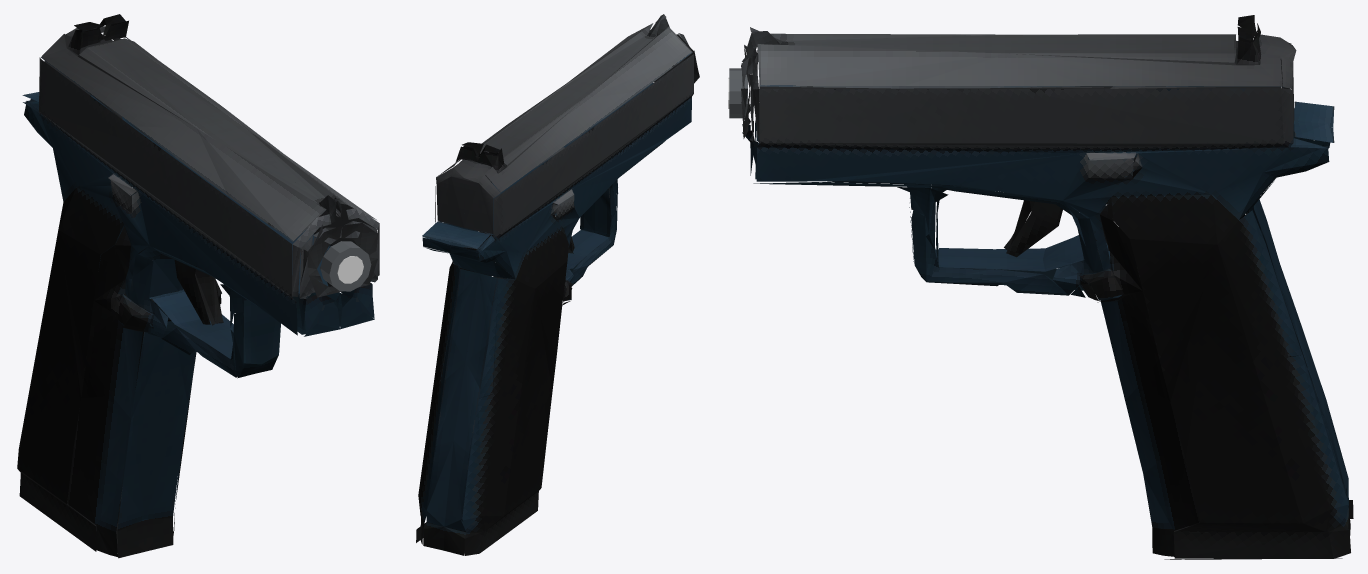
File: pistol.glb
3 views of the same model, side by side, from view 1: azimuth 30°, elevation 25°; view 2: azimuth 150°, elevation 25°; view 3: azimuth 270°, elevation 25° (orthographic). The views are drawn at different scales.
Visible parts, largest first — view 1: geometry_0, Unsuppressed muzzle, Dark barrel bore; view 2: geometry_0; view 3: geometry_0, Unsuppressed muzzle.
Boxes of the visible parts, x1=… form: geometry_0: x1=17, y1=14, x2=379, y2=558; Unsuppressed muzzle: x1=320, y1=241, x2=371, y2=291; Dark barrel bore: x1=337, y1=256, x2=363, y2=283; geometry_0: x1=416, y1=14, x2=699, y2=555; geometry_0: x1=741, y1=15, x2=1353, y2=559; Unsuppressed muzzle: x1=729, y1=68, x2=747, y2=118.
Bounding box in the file's own units: 0.0652 × 0.2735 × 0.2991.
Materials: 3 (1 with a texture image).
